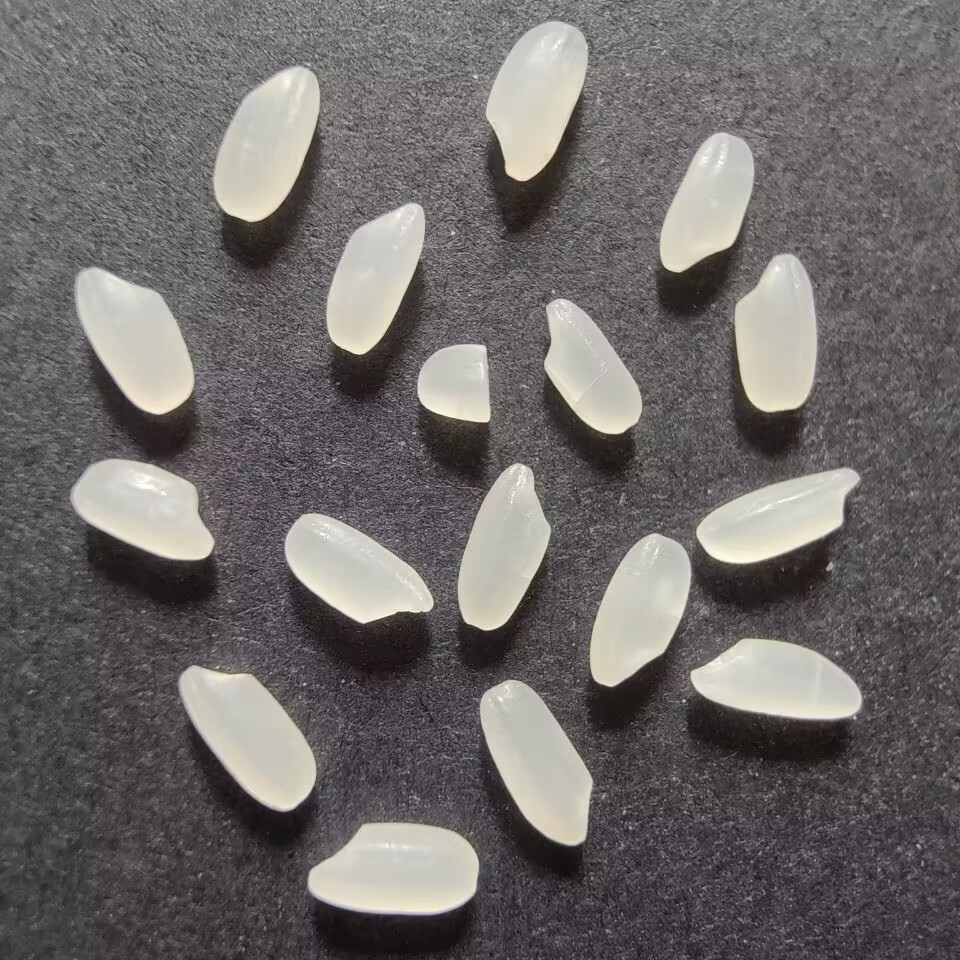broken: (411, 337, 498, 426)
rice: (173, 657, 320, 816), (476, 675, 600, 850), (68, 262, 200, 417), (479, 16, 593, 186), (208, 61, 325, 223), (301, 817, 484, 920), (582, 528, 696, 691), (281, 510, 437, 627), (62, 453, 223, 565), (320, 197, 430, 360), (456, 455, 556, 634), (694, 464, 868, 565), (535, 296, 650, 441), (727, 250, 823, 420), (684, 635, 869, 723), (655, 127, 757, 276)
